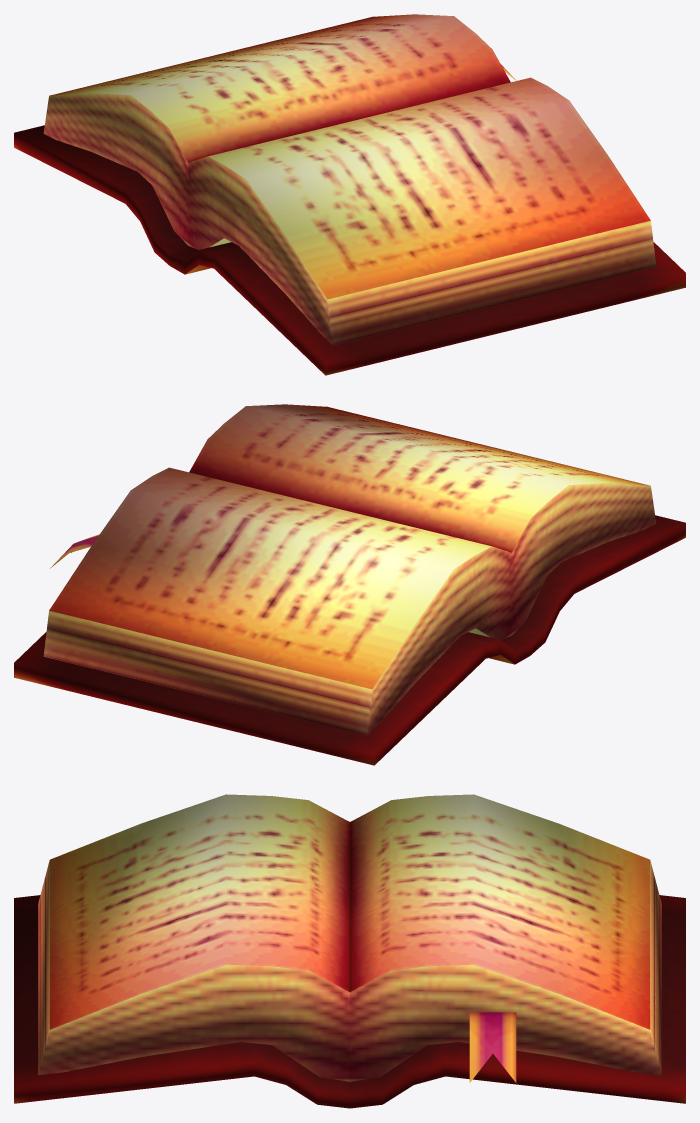
The model's file is Book.fbx.
3 views of the same model, one above another, from view 1: azimuth 30°, elevation 25°; view 2: azimuth 150°, elevation 25°; view 3: azimuth 270°, elevation 25° (orthographic). The views are drawn at different scales.
Parts seen in each view (by area): view 1: book; view 2: book; view 3: book.
Boxes of the visible parts, x1,y1,x2,y2 form: book: (14, 14, 685, 375); book: (14, 404, 685, 765); book: (14, 794, 685, 1108).
Size of the model in its own units: 3.51 by 1.03 by 4.69.
